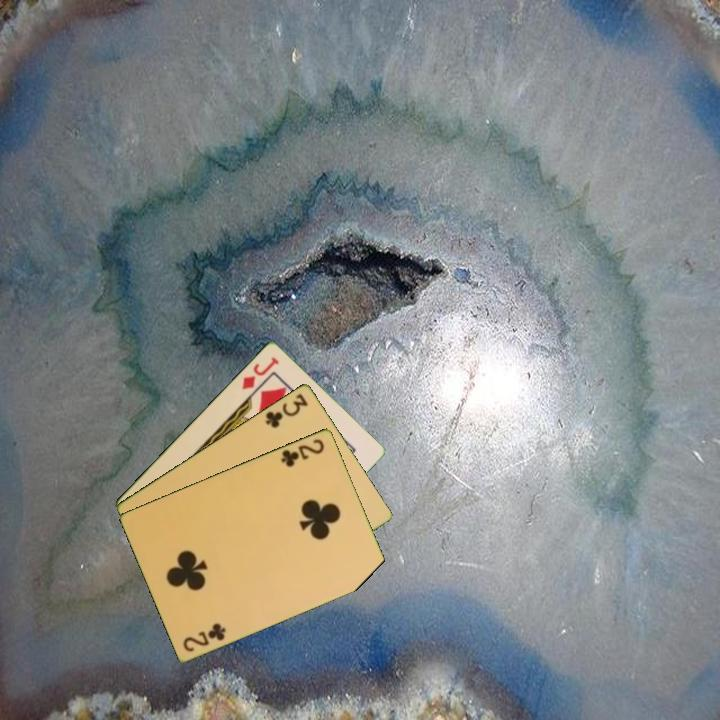2c: (277, 435, 327, 470), (179, 619, 229, 654)
3c: (262, 390, 311, 431)
Jd: (238, 353, 282, 392)
